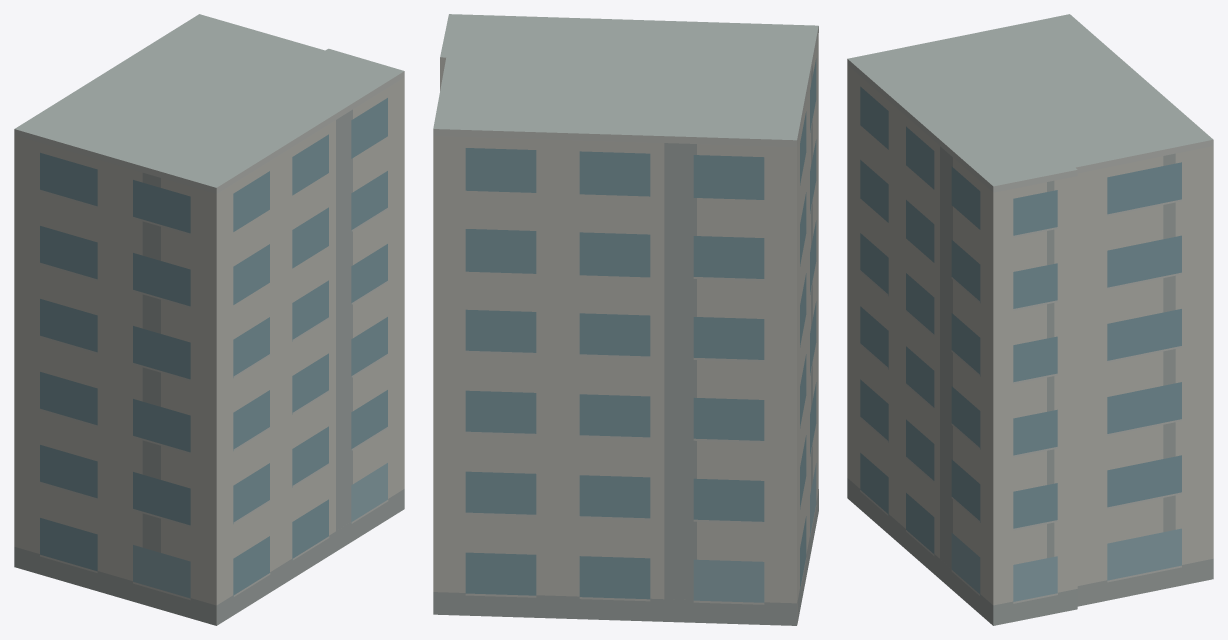
The model's file is survey-upis-32494239.glb.
3 renders of one model, left to right at view 1: azimuth 30°, elevation 25°; view 2: azimuth 150°, elevation 25°; view 3: azimuth 270°, elevation 25°, orthographic. The views are drawn at different scales.
Parts seen in each view (by area): view 1: survey-upis-32494239.tmp; view 2: survey-upis-32494239.tmp; view 3: survey-upis-32494239.tmp.
Part boxes in pixels (bbox=[...]): survey-upis-32494239.tmp: bbox=[14, 14, 404, 625]; survey-upis-32494239.tmp: bbox=[433, 14, 818, 625]; survey-upis-32494239.tmp: bbox=[847, 14, 1213, 625].
Bounding box in the file's own units: 14.44 × 17.15 × 12.96.
